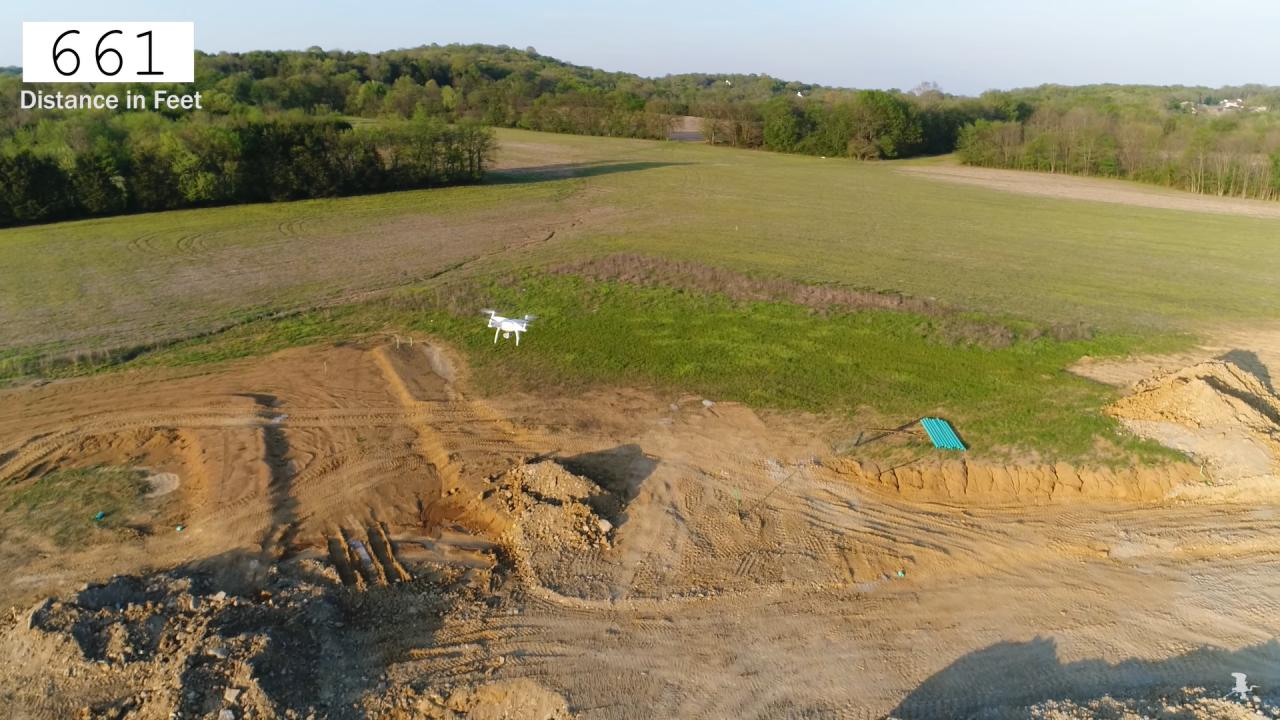Drone: (472, 301, 547, 351)
